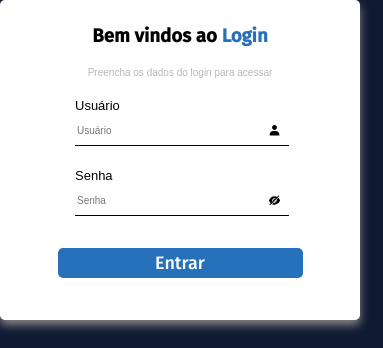
Test: Componente <CardLogin /> › A senha deve se tornar visível quando o usuário clicar no olhinho
The image size is (383, 348).
Step 1. Type "1234" into the password field with placeholder "Senha" → (182, 200), box [75,183,289,216]
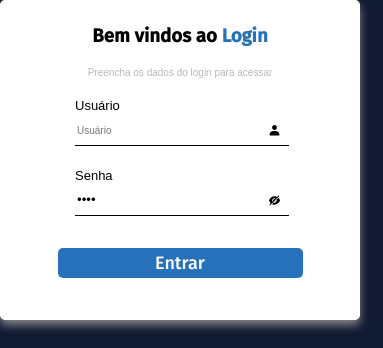
Step 2. Click the element with test id "eye" → (274, 200), box [268,194,281,207]
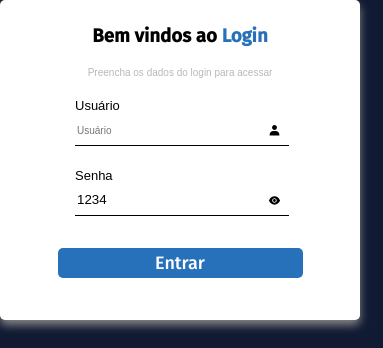
Expected: the field with placeholder "Senha" shows its text, [75,183,289,216]
